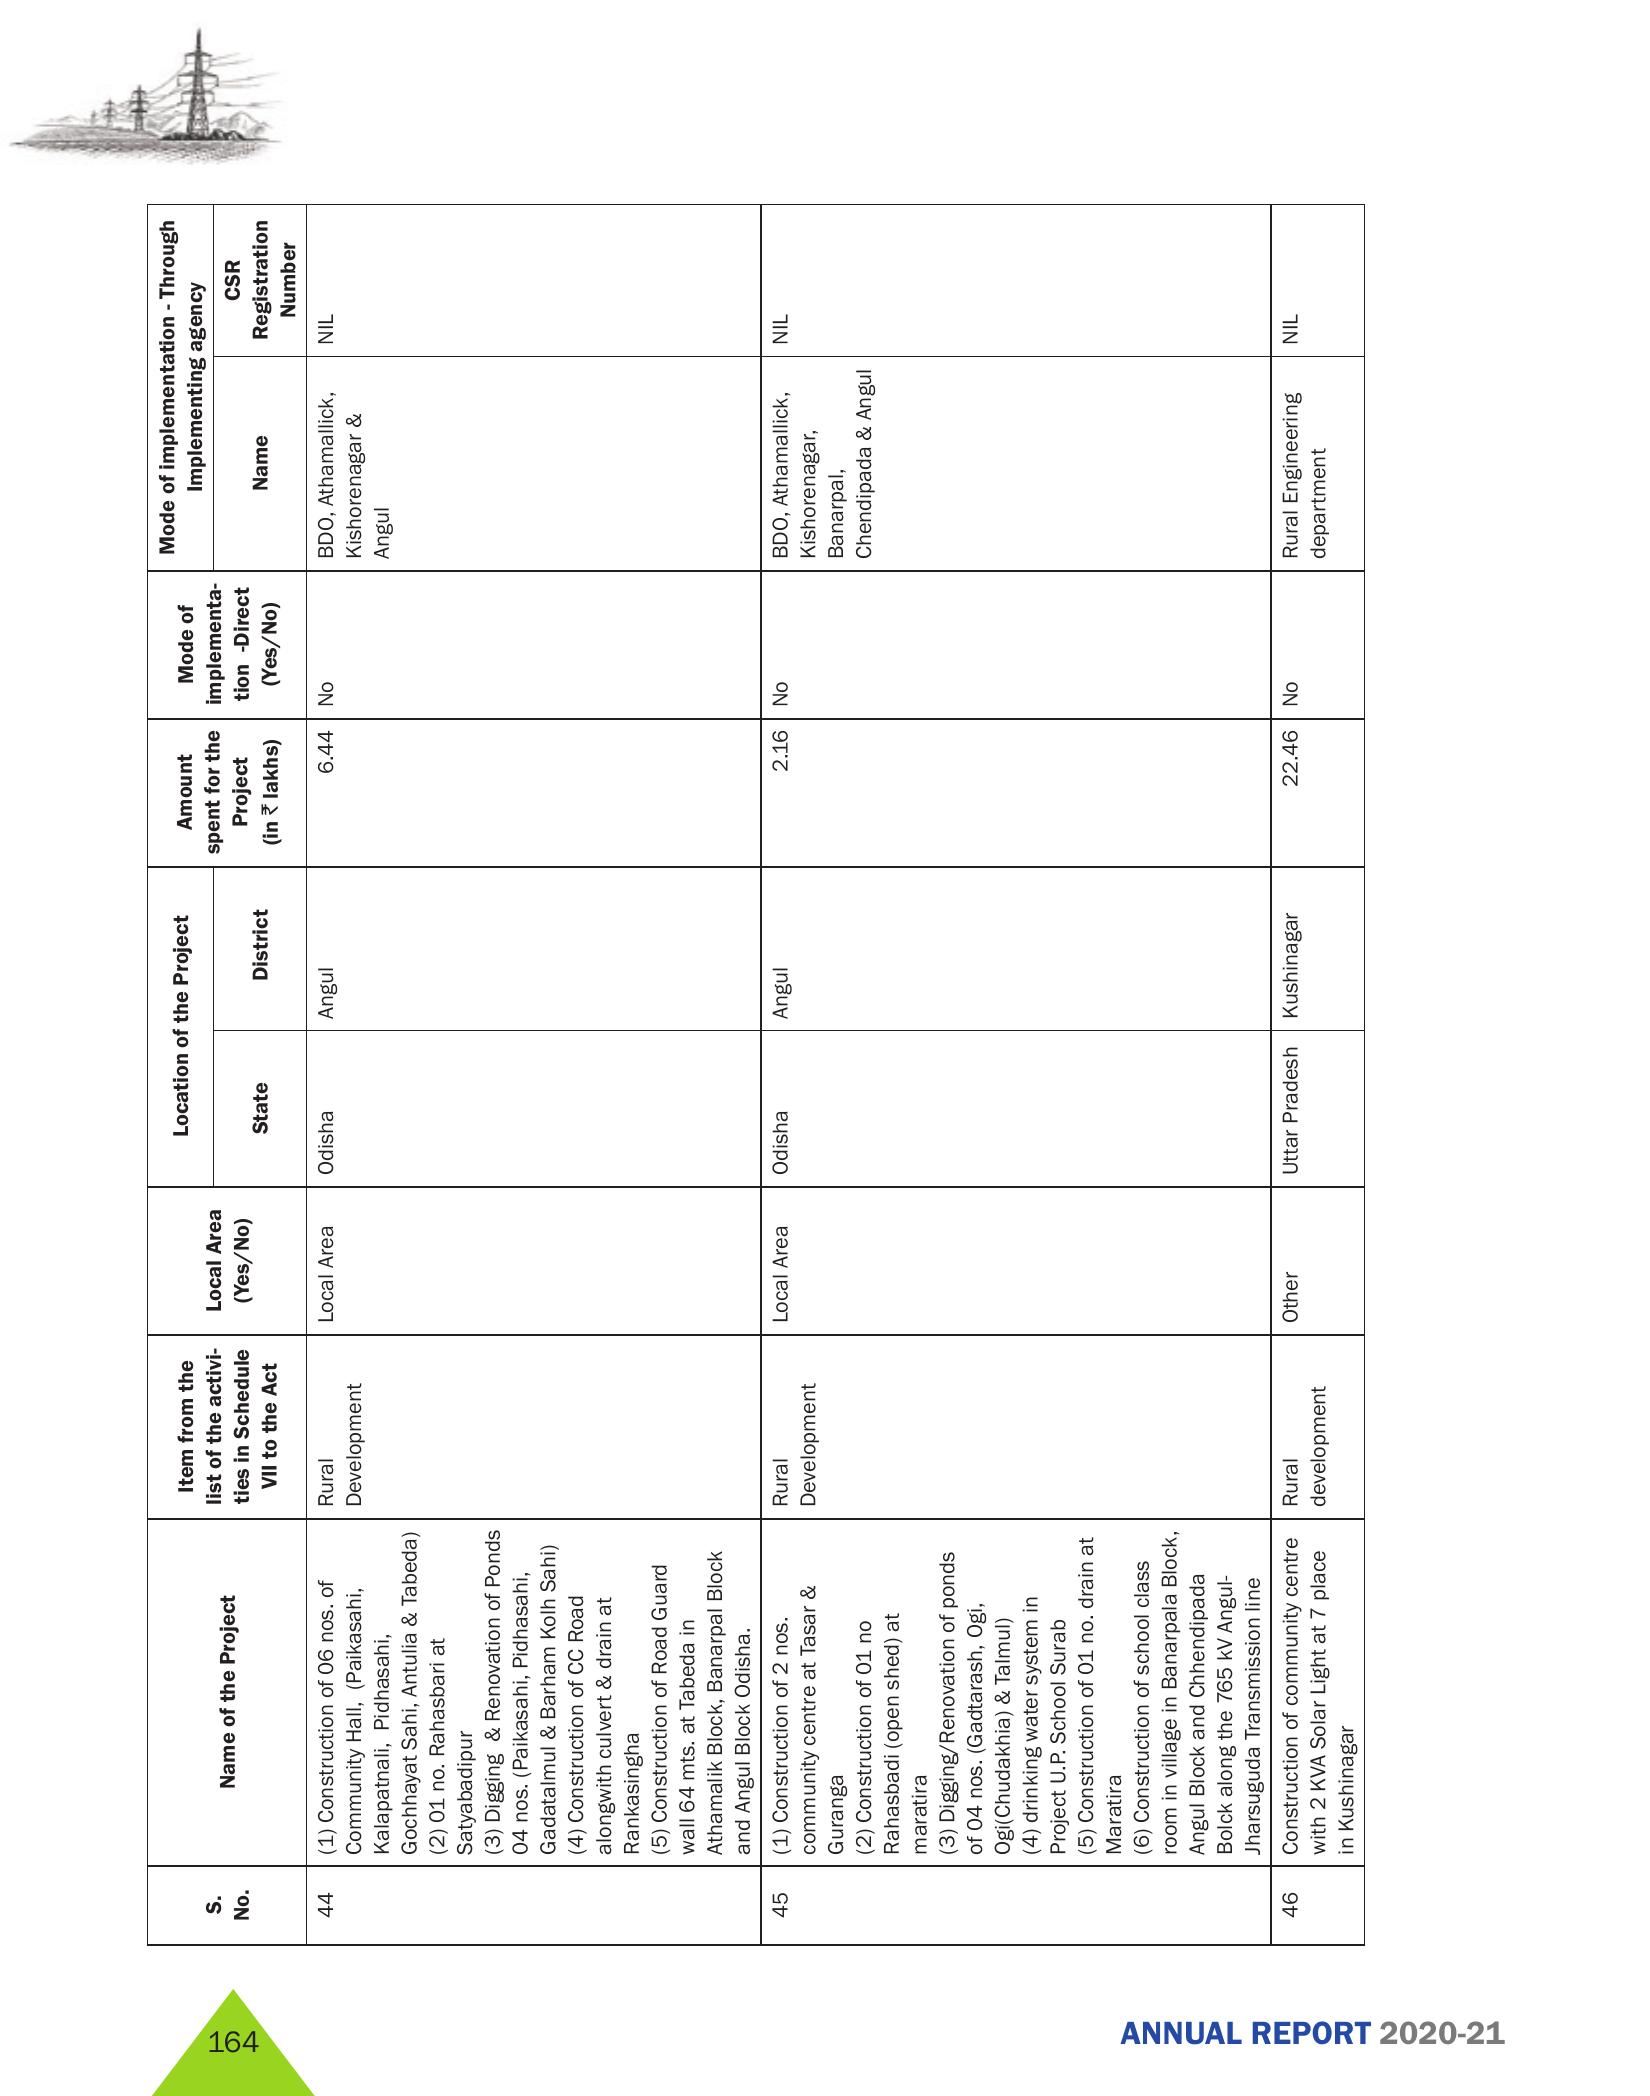Footer: (0, 1965, 1650, 2096)
Header: (0, 0, 1650, 180)
Table: (102, 204, 1378, 1968)
